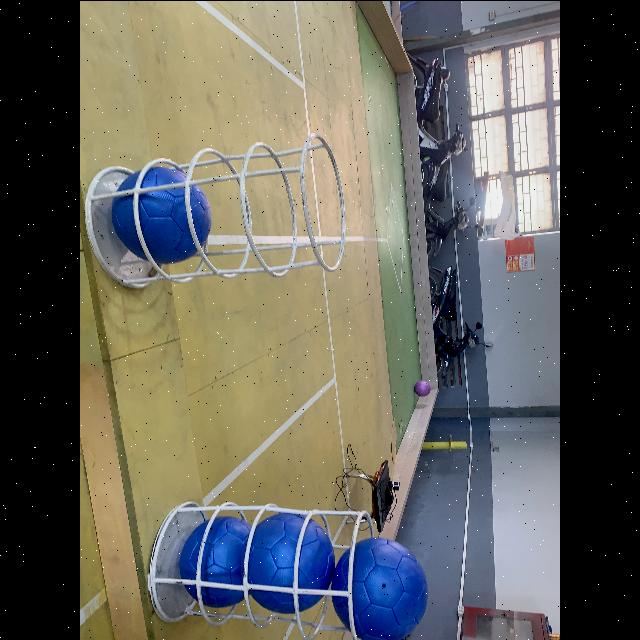B: (328, 530, 434, 640), (110, 160, 212, 270), (248, 511, 340, 612), (178, 514, 254, 604)
